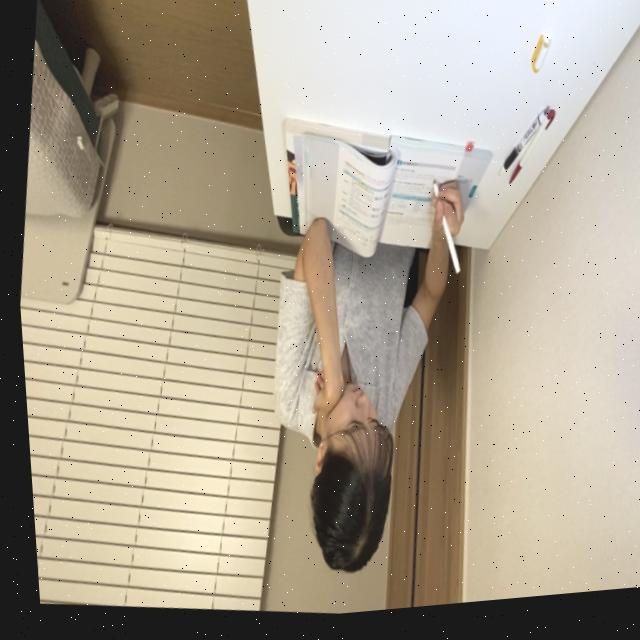studying-person: (206, 90, 521, 609)
